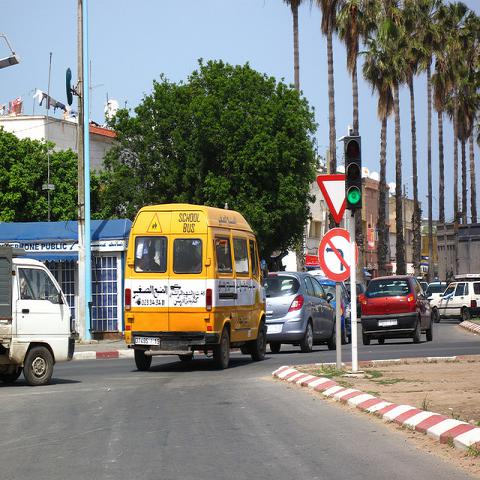car: (266, 272, 336, 354), (360, 275, 434, 344), (315, 278, 351, 344), (430, 280, 480, 325), (344, 280, 368, 318), (429, 282, 446, 308), (420, 282, 428, 291), (416, 277, 424, 282)
truck: (124, 206, 272, 386), (1, 248, 75, 386)
